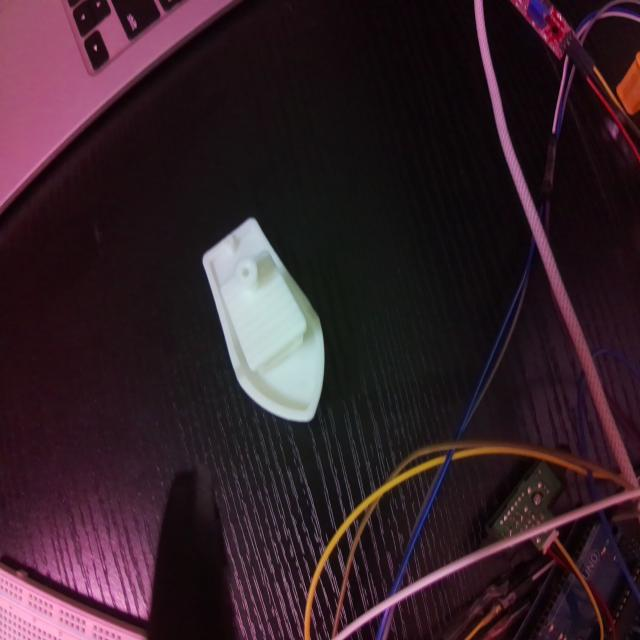ship: (203, 218, 326, 423)
